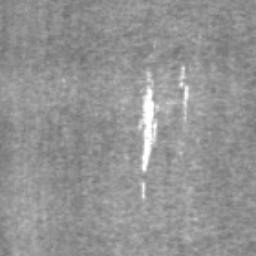White rust: (139, 67, 160, 173), (178, 65, 189, 120), (141, 181, 146, 200)
